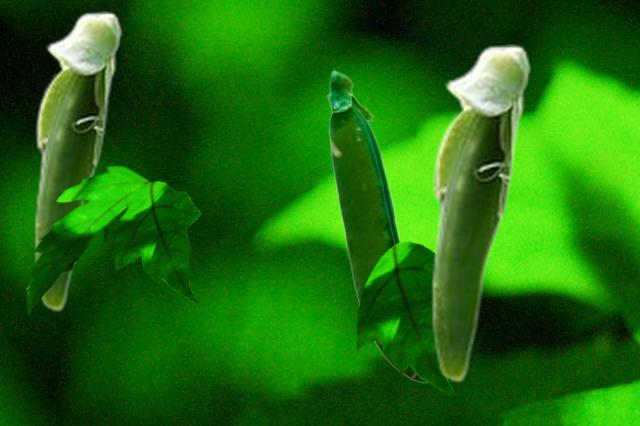pea: (430, 44, 531, 382), (326, 69, 426, 382), (33, 11, 122, 311)
